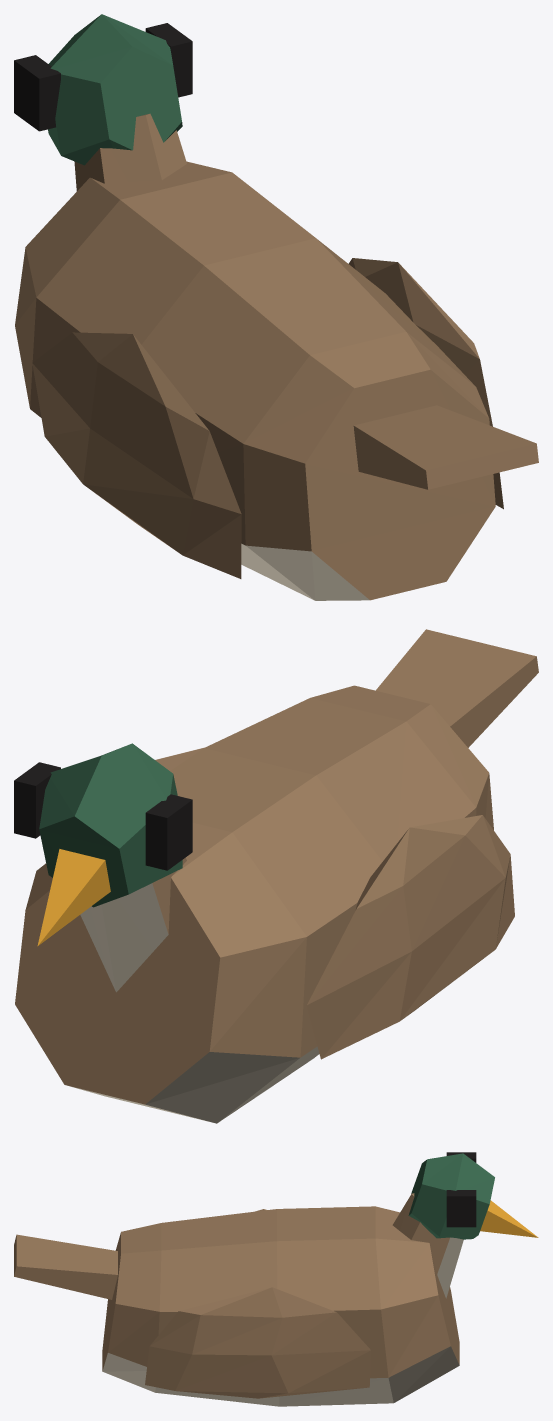
File: animal_duck.obj
3 renders of one model, top to bottom at view 1: azimuth 30°, elevation 25°; view 2: azimuth 150°, elevation 25°; view 3: azimuth 270°, elevation 25°, orthographic. The views are drawn at different scales.
Visible parts, largest first — view 1: animal_duck; view 2: animal_duck; view 3: animal_duck.
Part boxes in pixels (x1,y1,x2,y2): animal_duck: [14, 14, 538, 600]; animal_duck: [14, 629, 538, 1123]; animal_duck: [14, 1152, 538, 1406].
Bounding box in the file's own units: 0.236 × 0.2817 × 0.5649.
